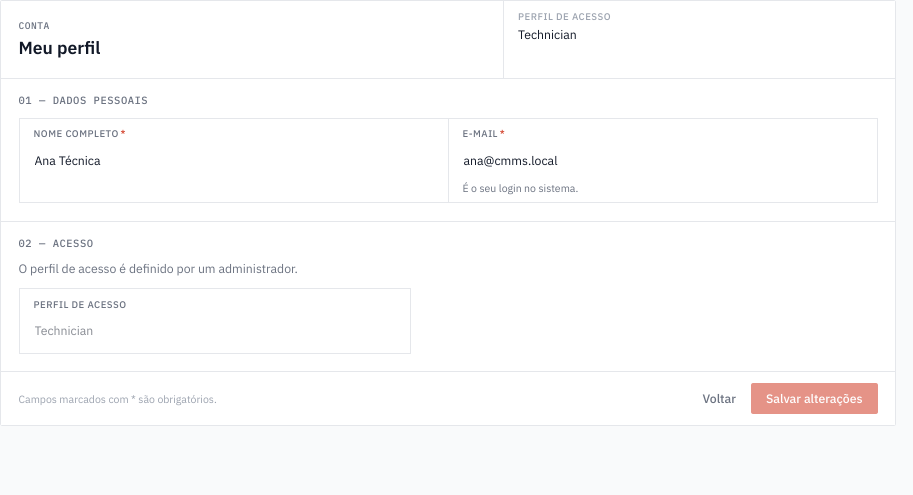
ProfilePage › deve salvar a troca de nome sem pedir senha
Replace the text in the field labelled "Nome completo" with "Ana Souza". click: [234, 160]
box: [34,144,434,176]
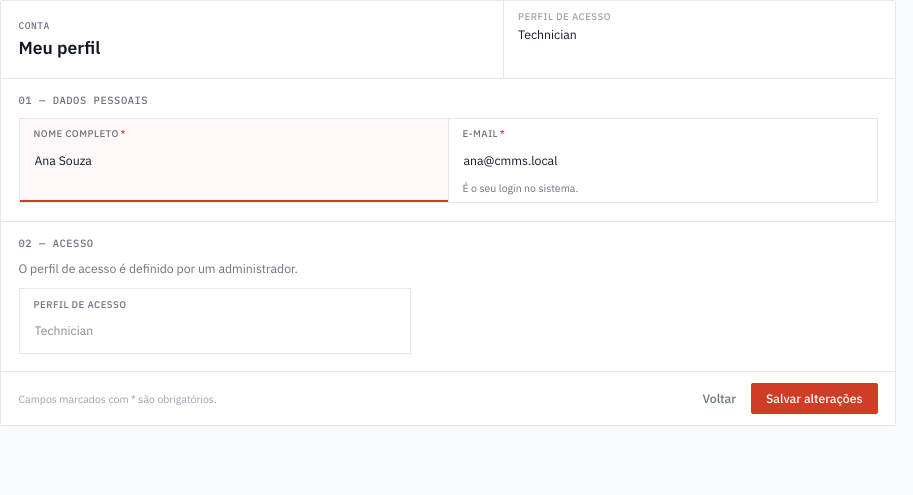
Click the button "Salvar alterações". click: [814, 399]
box: [751,383,878,414]
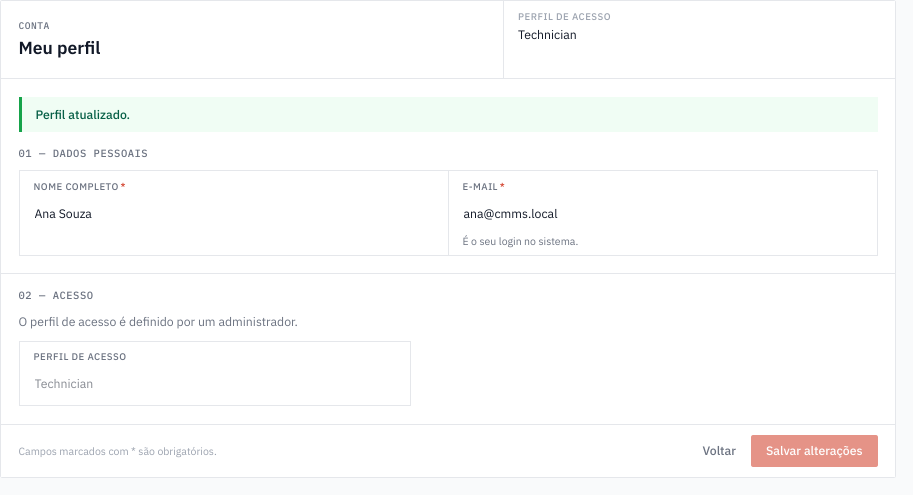
Check: the text "Perfil atualizado." is shown, box [18,97,878,132]
